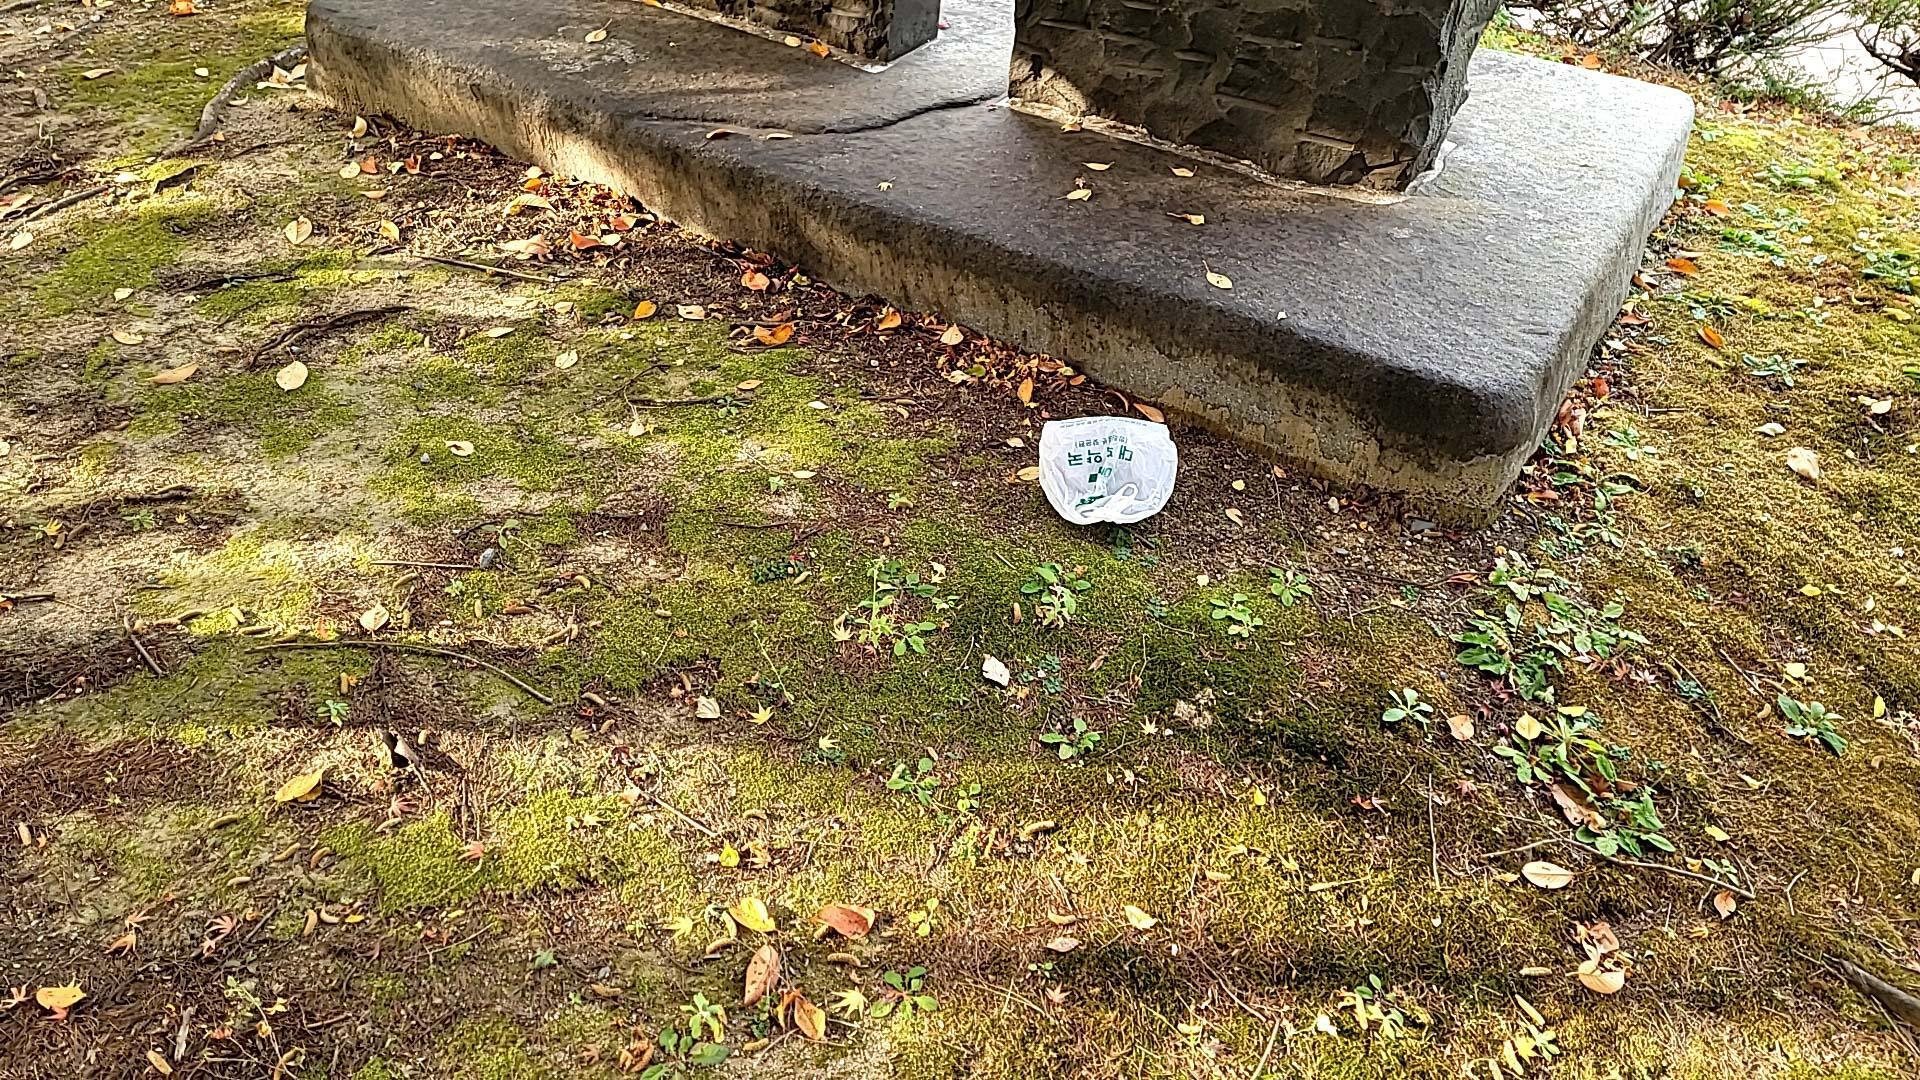white_bag: (1025, 413, 1185, 531)
